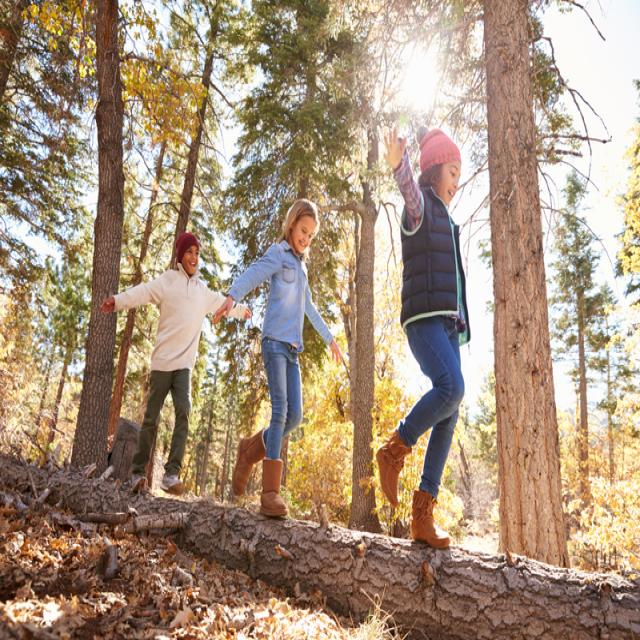Person: (212, 199, 344, 521), (374, 122, 472, 551), (100, 233, 251, 493)
